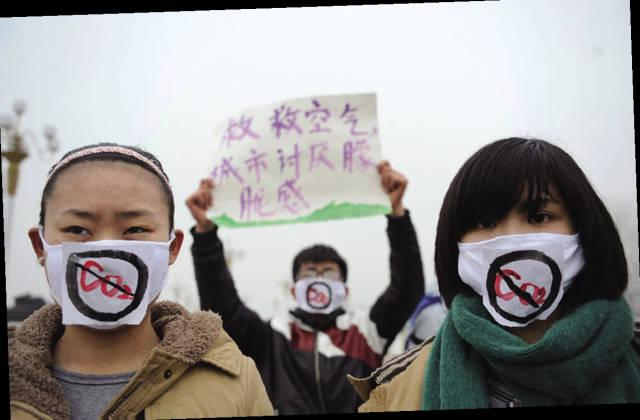OK: (446, 193, 577, 324), (45, 205, 168, 328), (295, 262, 343, 314)
